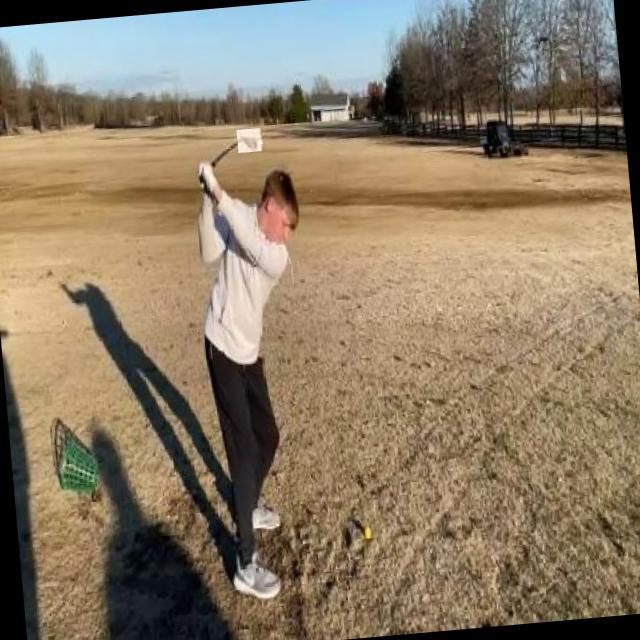club head: (236, 128, 262, 152)
